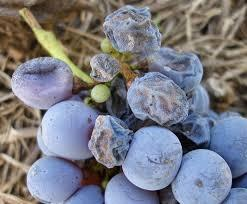Grape Rotten: (11, 4, 247, 204)
